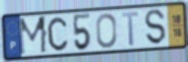5: (72, 12, 93, 53)
C: (46, 16, 69, 53)
M: (18, 15, 49, 58)
O: (95, 12, 118, 50)
S: (144, 8, 167, 46)
T: (121, 10, 140, 48)
